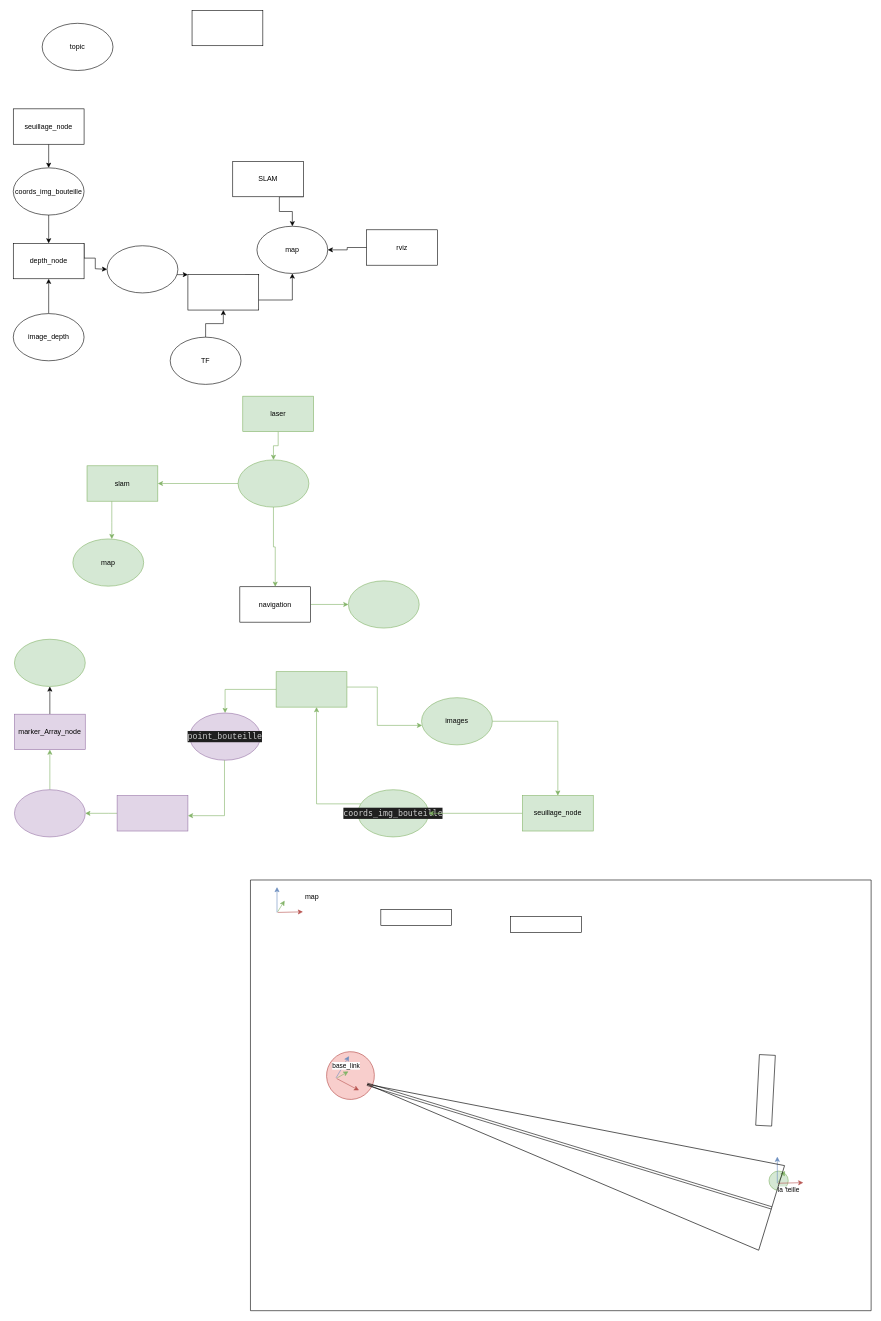
Some shapes in this 881 by 1321 pixel diagram are drawn without their labels. The shapes that lost their labels are listed below. From the top down, each one's centre as x and y in pixels, then its label:
At point 227,28: "node".
At point 142,269: "distance_bouteille".
At point 223,292: "placage_bouteille".
At point 273,483: "scan".
At point 383,604: "cmdvel".
At point 49,662: "marker_array_bouteille".
At point 311,689: "camera".
At point 49,813: "marker_bouteille".
At point 152,813: "marker_node".
